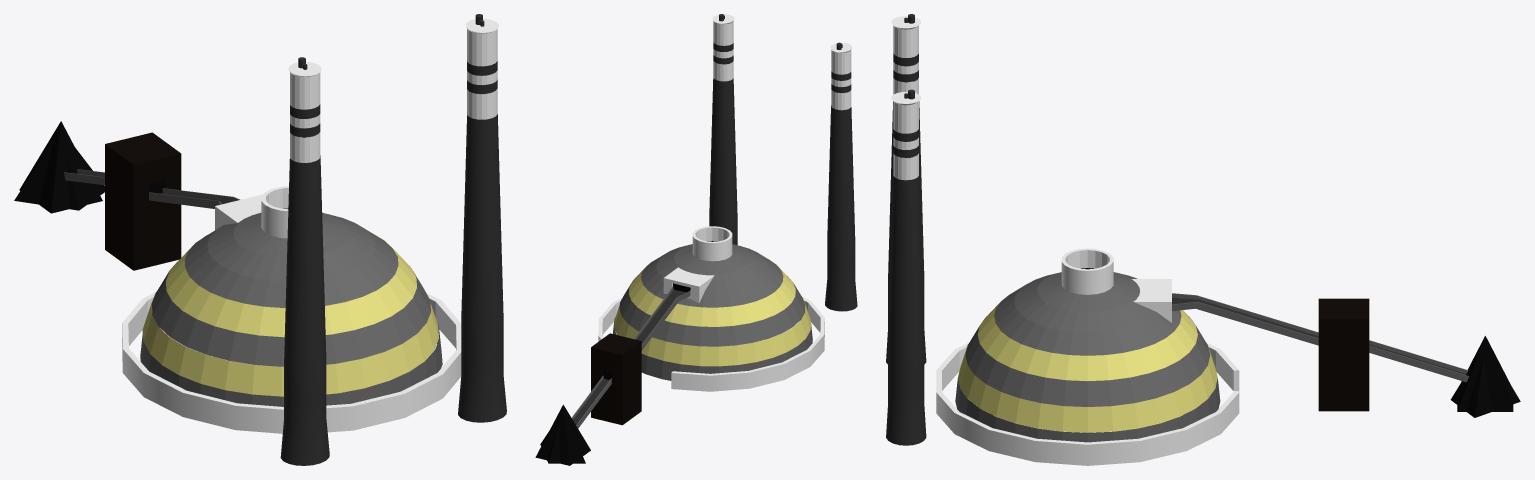
File: Coal Plant 3.FBX
3 renders of one model, left to right at view 1: azimuth 30°, elevation 25°; view 2: azimuth 150°, elevation 25°; view 3: azimuth 270°, elevation 25°, orthographic. The views are drawn at different scales.
Parts seen in each view (by area): view 1: Cylinder010; view 2: Cylinder010; view 3: Cylinder010.
Part boxes in pixels (box(x1,y1,x2,y2)): Cylinder010: box(14, 14, 506, 465); Cylinder010: box(535, 14, 857, 465); Cylinder010: box(886, 14, 1520, 465).
Bounding box in the file's own units: 69.05 × 88.34 × 146.
